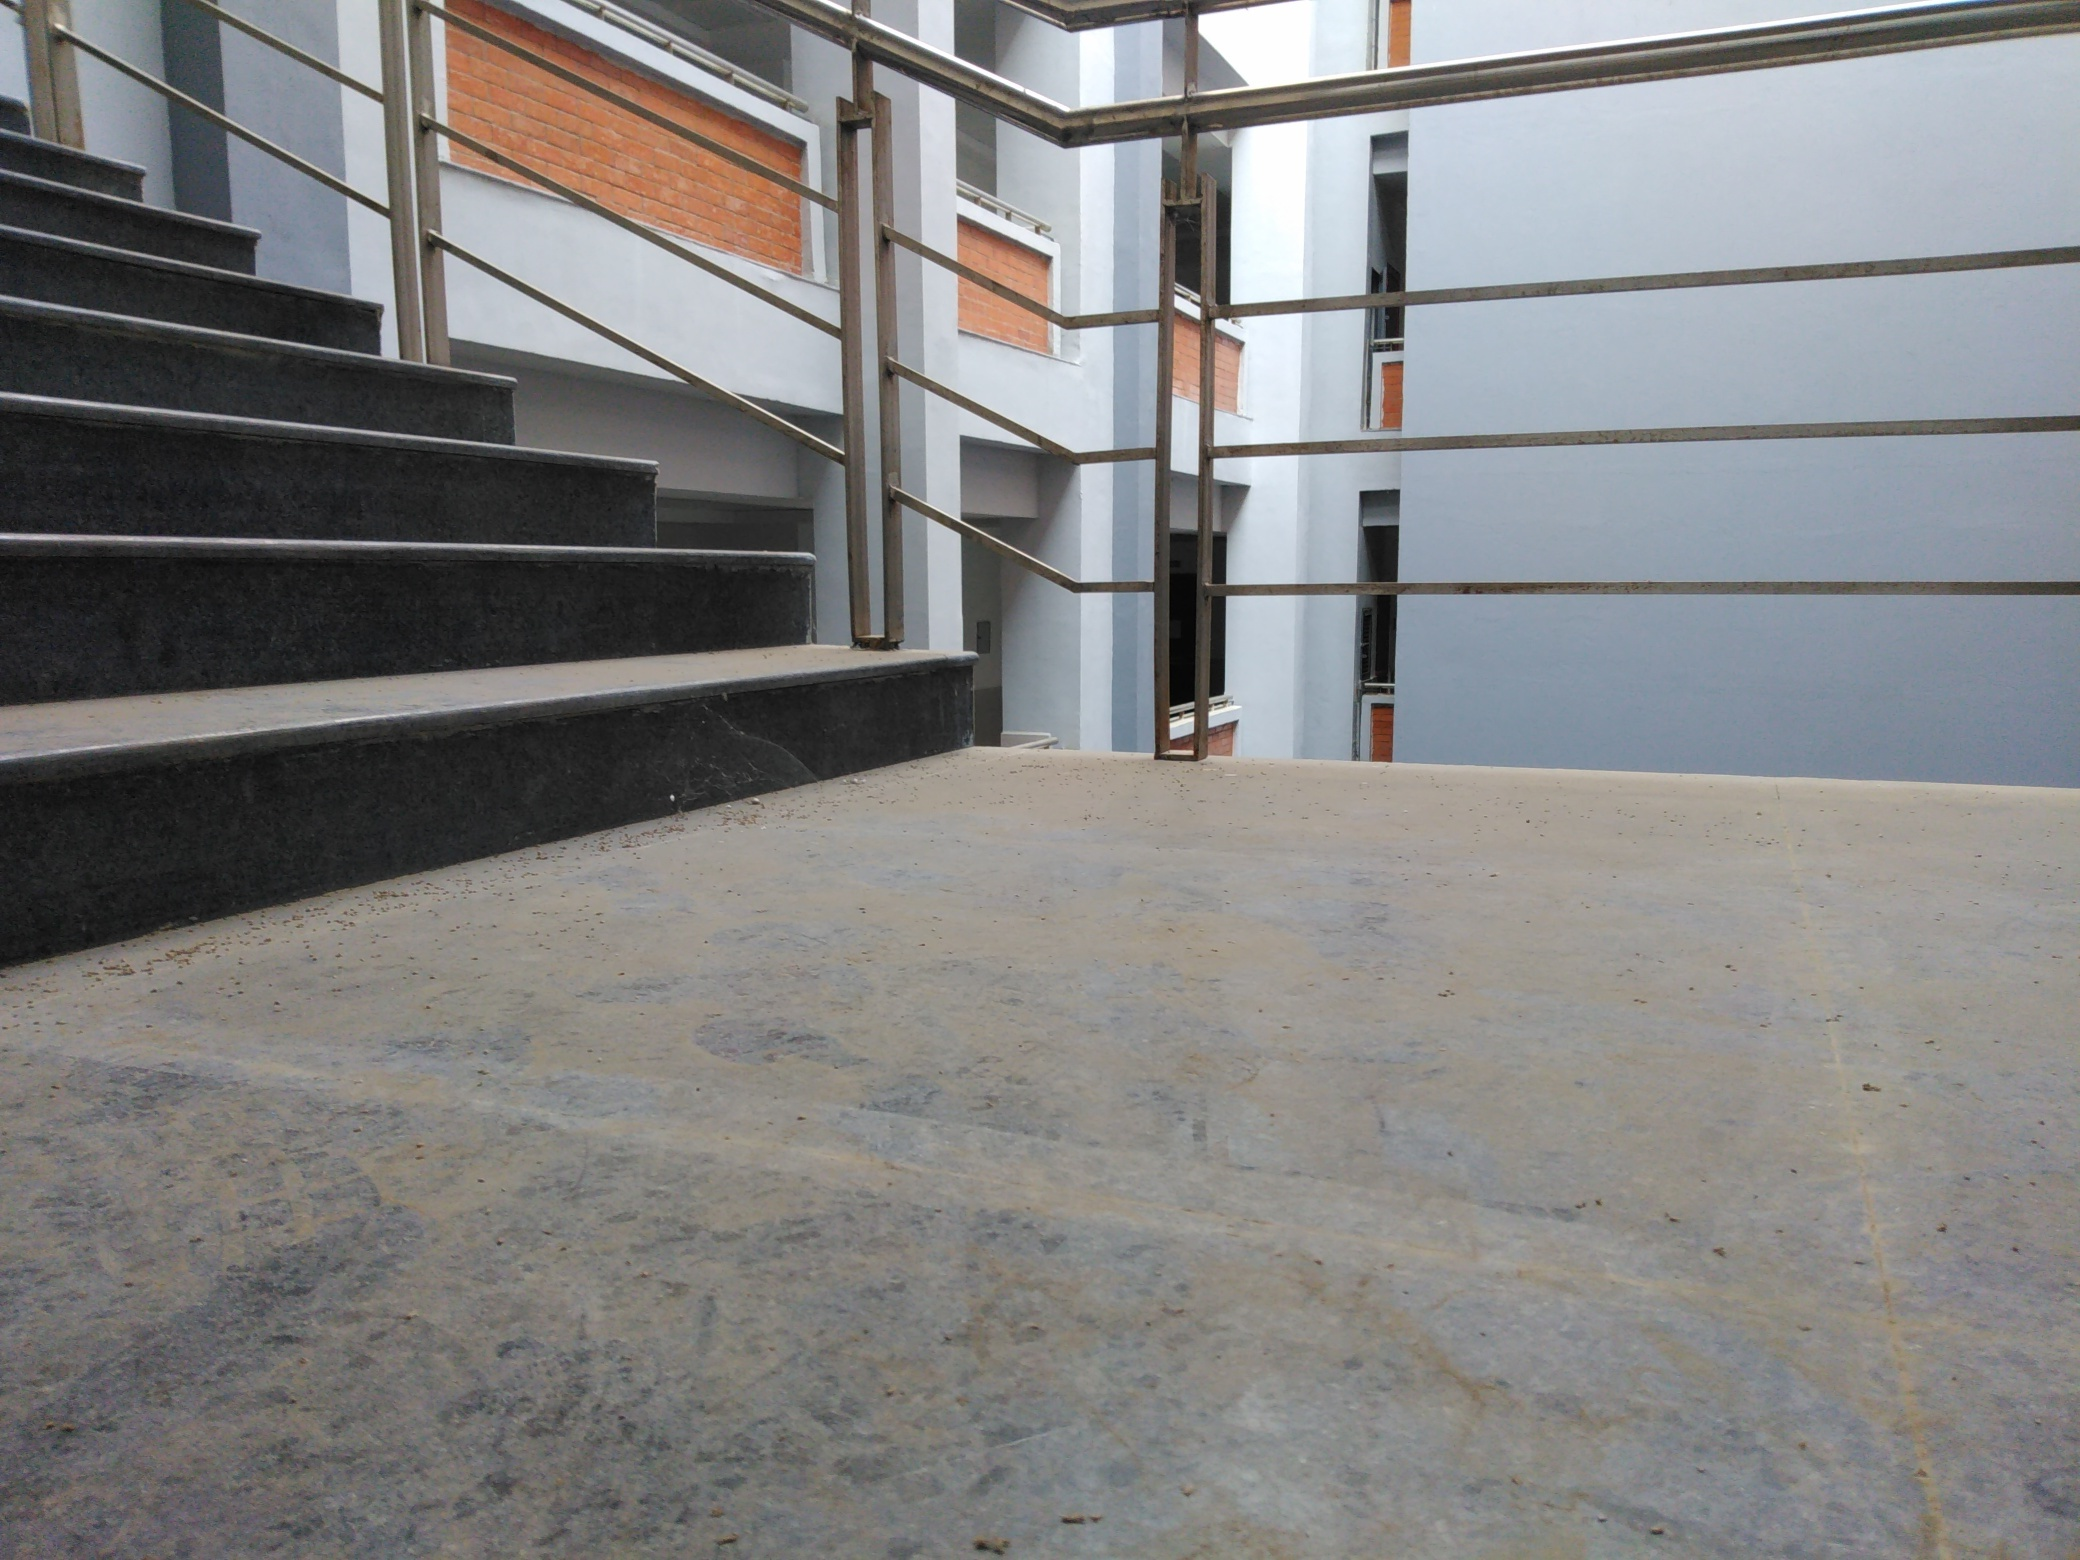stairs_up: (2, 105, 884, 870)
